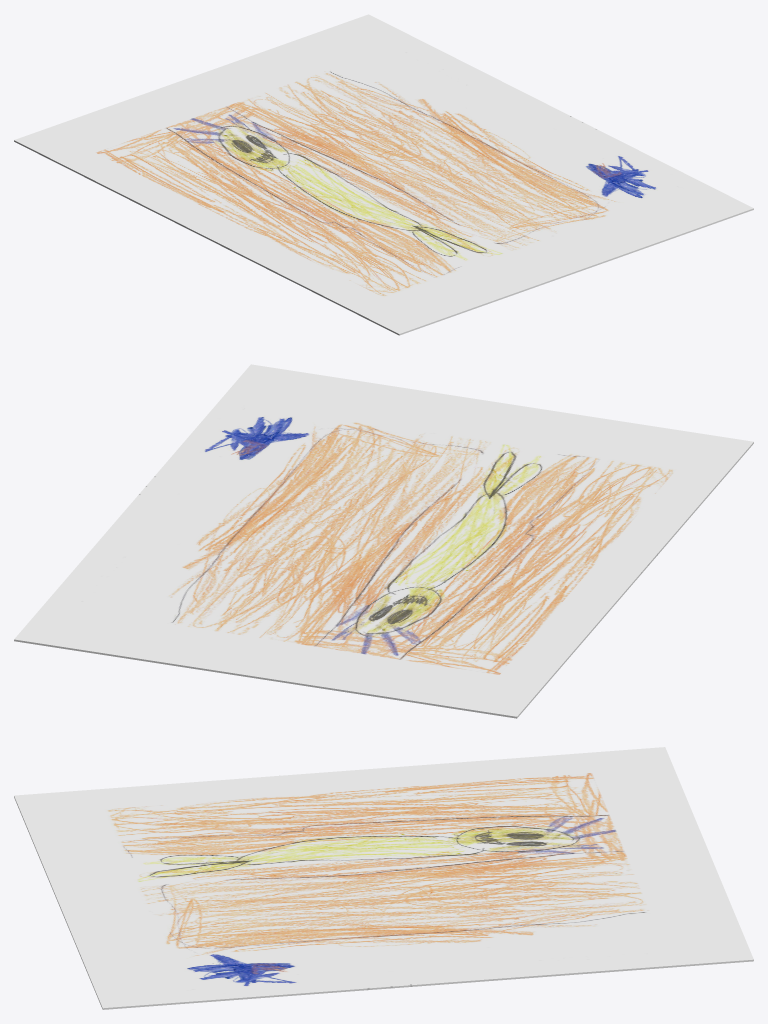
The model's file is drawing.FBX.
The picture shows the model from 3 angles, top to bottom: view 1: azimuth 30°, elevation 25°; view 2: azimuth 150°, elevation 25°; view 3: azimuth 270°, elevation 25°; orthographic projection. The views are drawn at different scales.
Visible parts, largest first — view 1: drawing; view 2: drawing; view 3: drawing.
Part boxes in pixels (x1=…): drawing: x1=14, y1=14, x2=753, y2=335; drawing: x1=14, y1=364, x2=753, y2=718; drawing: x1=14, y1=747, x2=753, y2=1009.
Size of the model in its own units: 10.28 by 0.0312 by 12.31.
Materials: 1 (1 with a texture image).
